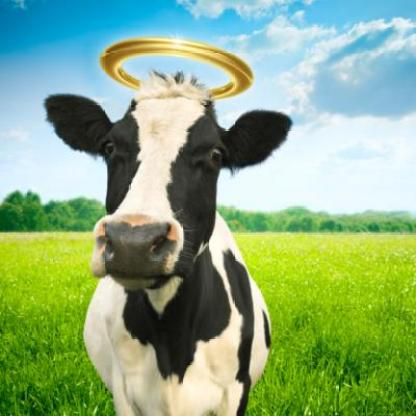lower: (123, 280, 153, 287)
mouth: (92, 212, 186, 290)
upper: (126, 235, 139, 252)
